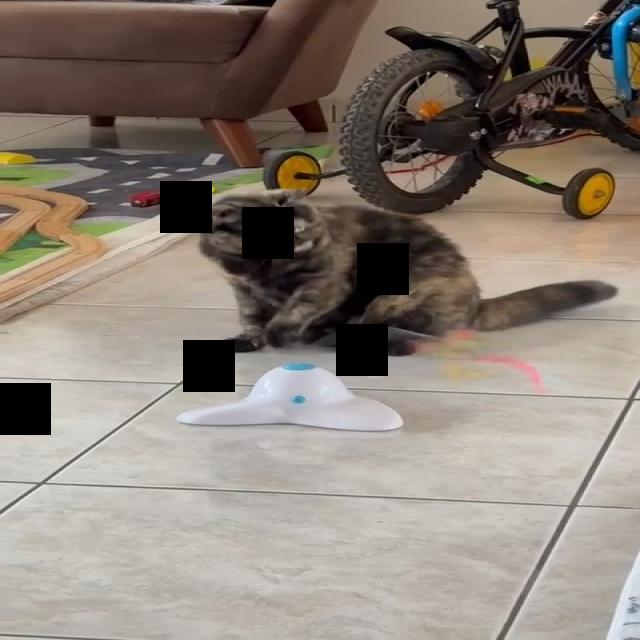authorized: (196, 189, 617, 356)
